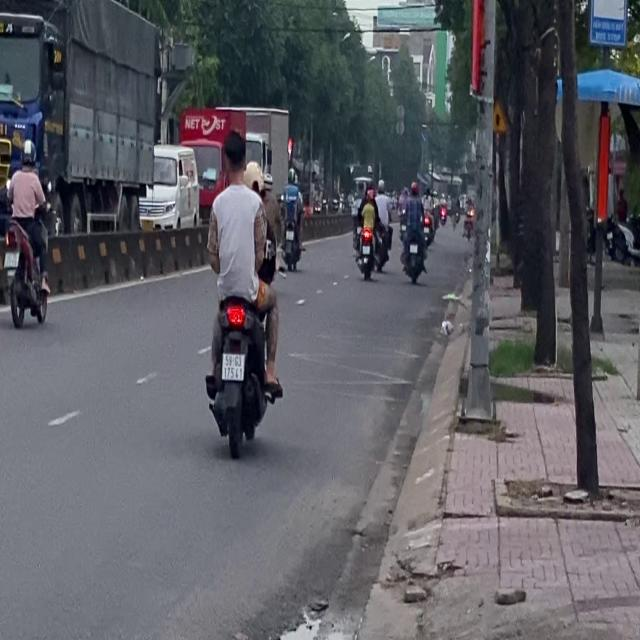helmet: (20, 138, 36, 166)
licenseplate: (202, 126, 284, 456), (0, 138, 51, 326)
motorcyclist: (220, 129, 247, 181)
nohelmet: (221, 351, 243, 379), (4, 252, 18, 268)
